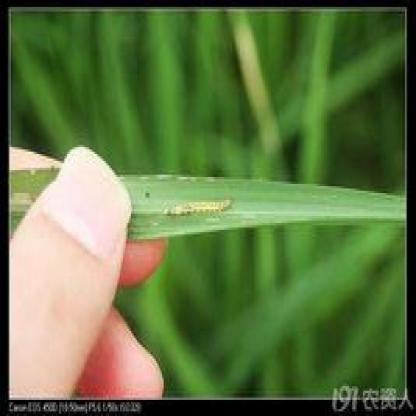leaf-folder: (171, 182, 244, 233)
